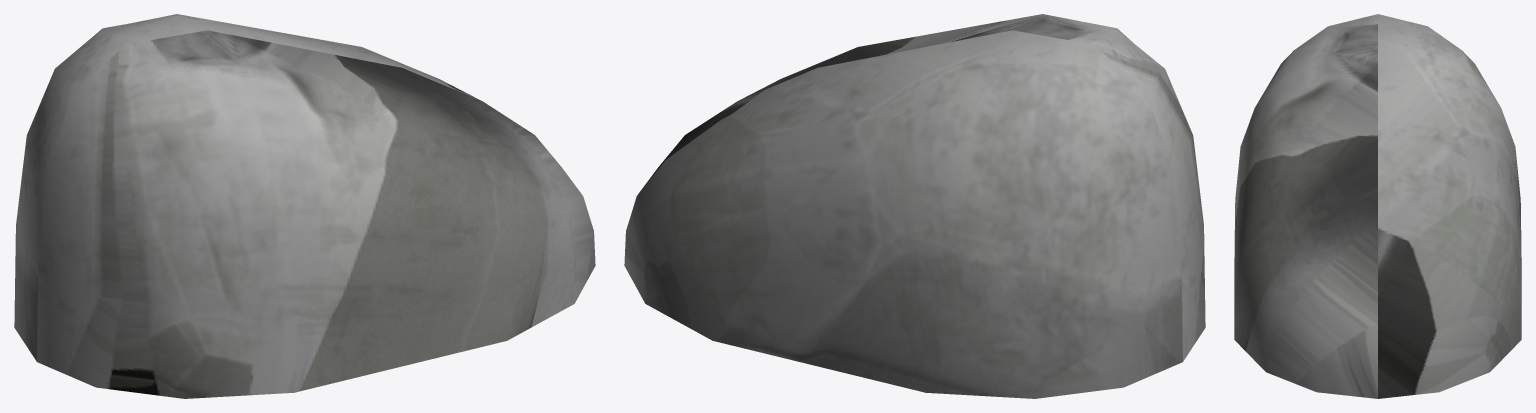
The model's file is 16_R_Pequeña.fbx.
The picture shows the model from 3 angles, left to right: view 1: azimuth 30°, elevation 25°; view 2: azimuth 150°, elevation 25°; view 3: azimuth 270°, elevation 25°; orthographic projection. The views are drawn at different scales.
Parts seen in each view (by area): view 1: 16_R_Pequeña_Low; view 2: 16_R_Pequeña_Low; view 3: 16_R_Pequeña_Low.
Boxes of the visible parts, bbox=[...] form: 16_R_Pequeña_Low: bbox=[14, 14, 595, 398]; 16_R_Pequeña_Low: bbox=[624, 14, 1205, 398]; 16_R_Pequeña_Low: bbox=[1234, 14, 1521, 398].
Size of the model in its own units: 518 by 273 by 321.
